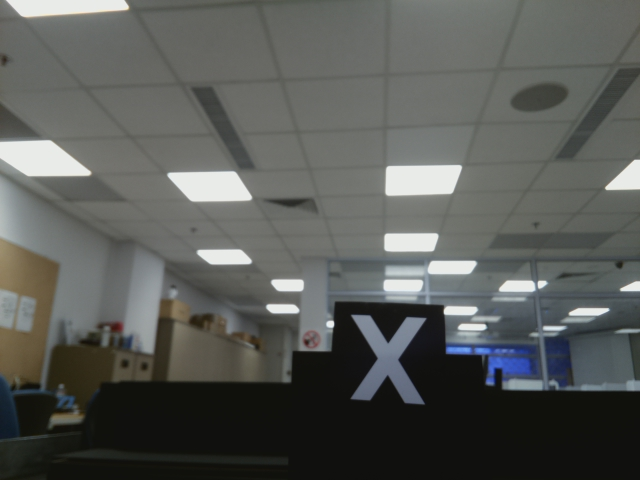x: (340, 312, 436, 411)
